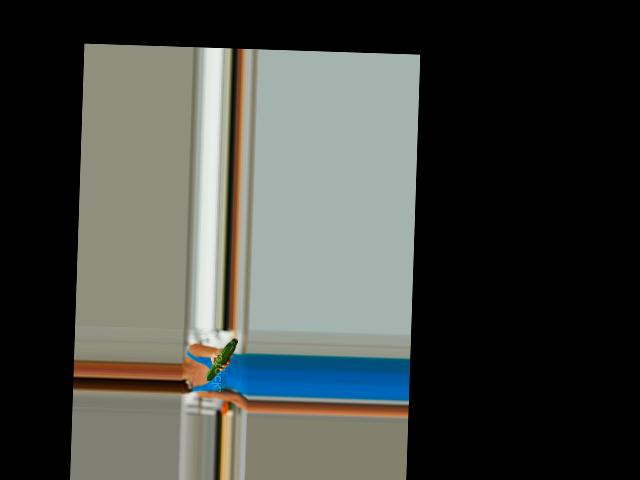cucumber: (206, 338, 238, 382)
